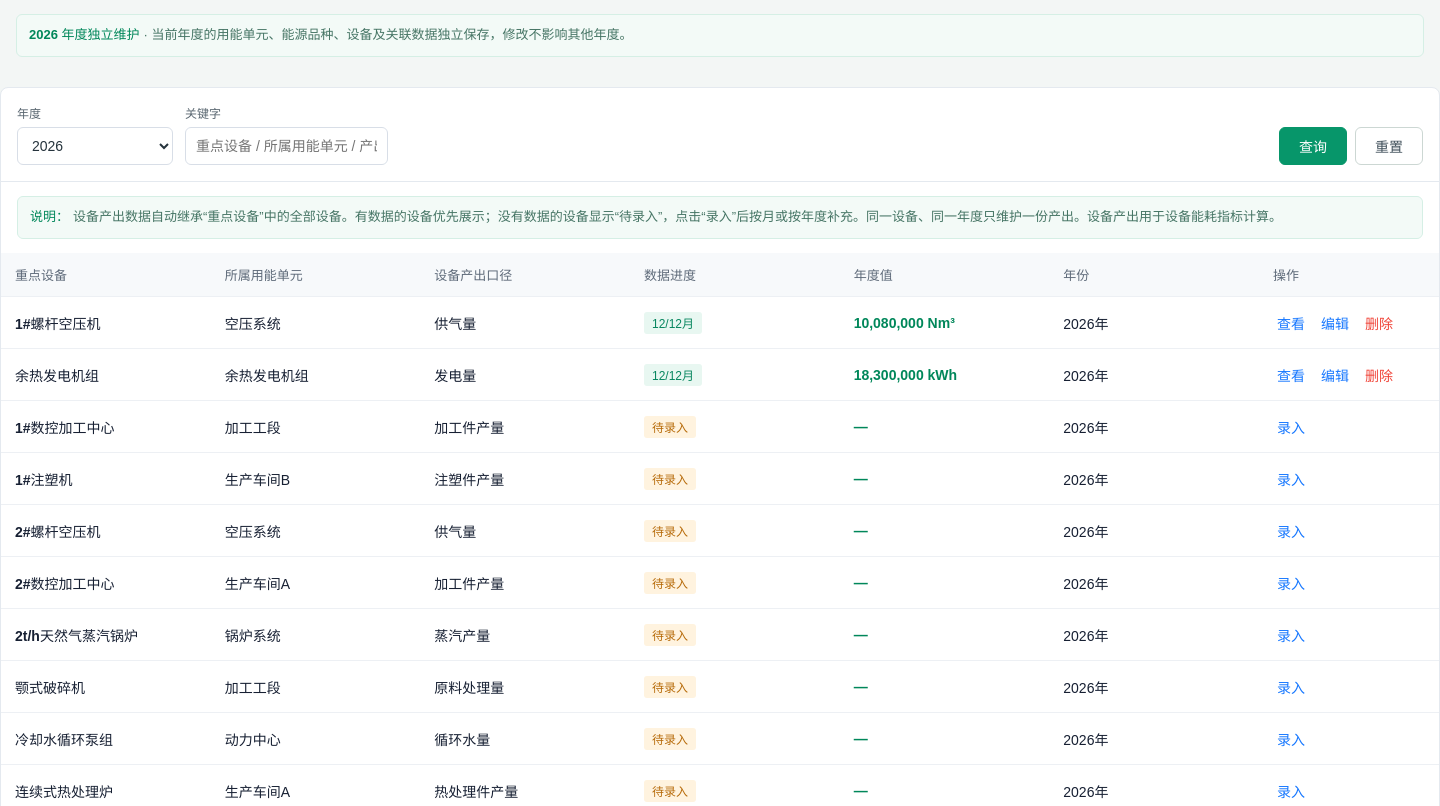
Test: annual ledgers and shared monthly details › distinguishes read-only viewing from one complete editing dialog on /data-management/device-output
Click the button "查看" in the row of "1#螺杆空压机": (1291, 323) [1273,311,1309,335]
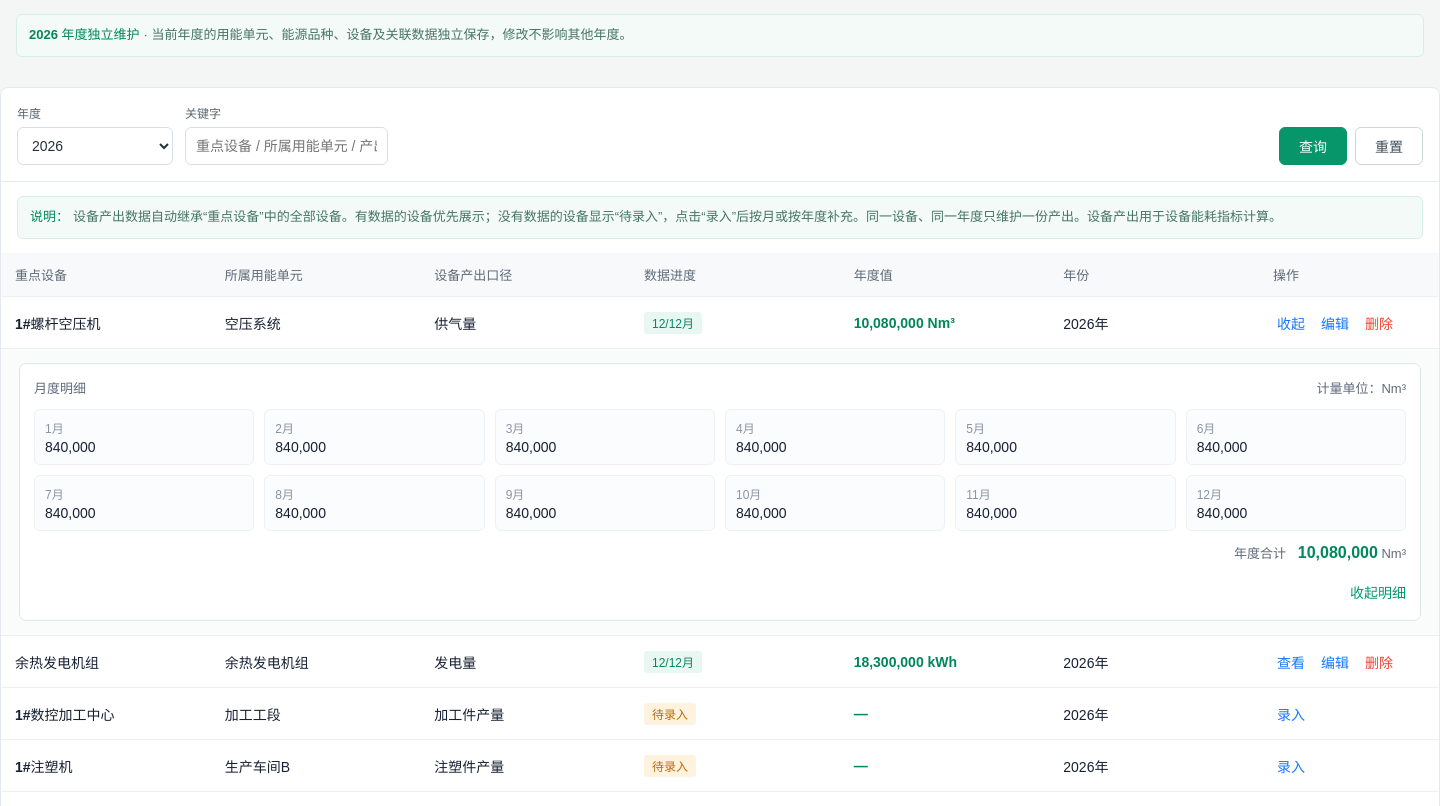
Click the button "编辑" in the row of "1#螺杆空压机": (1335, 323) [1317,311,1353,335]
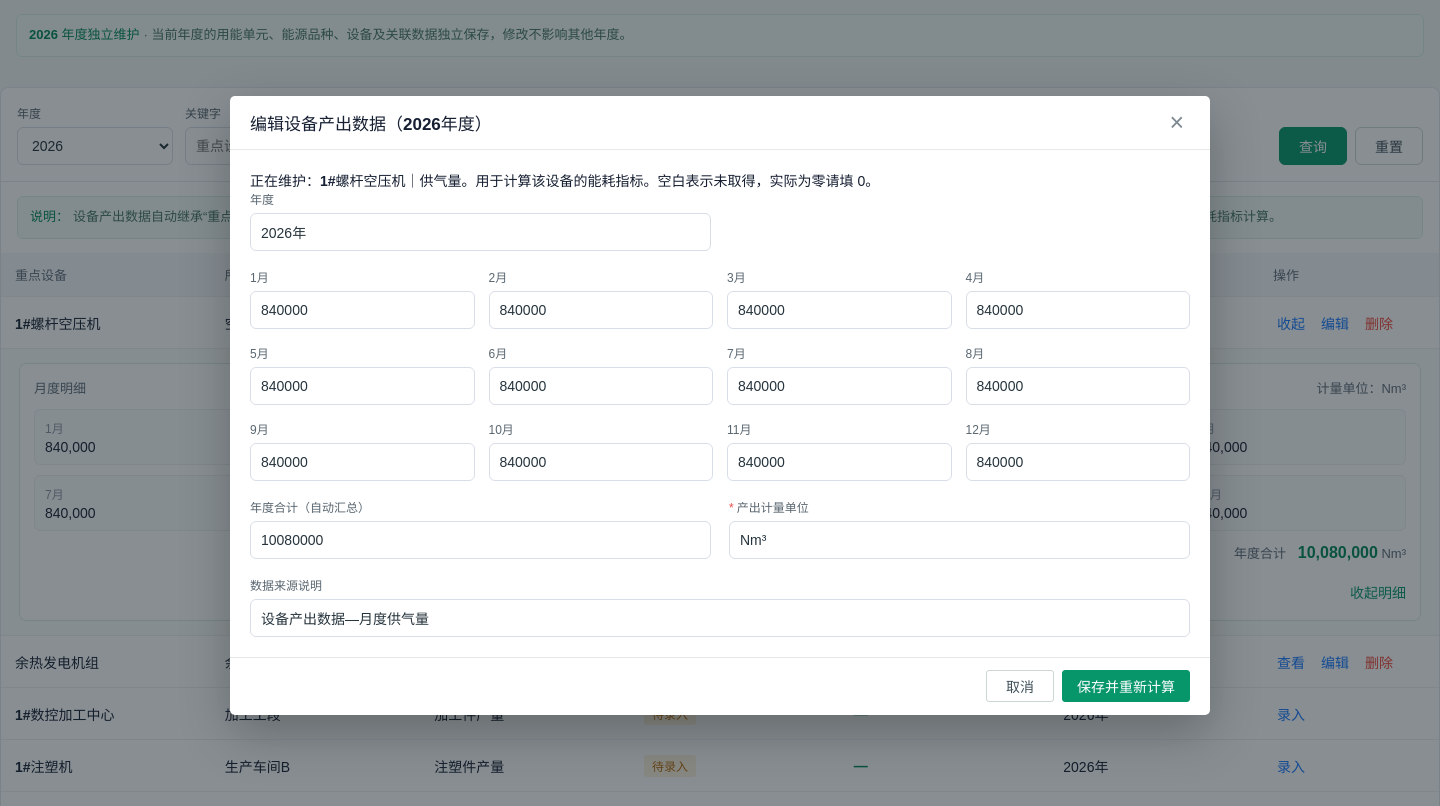
Result: the dialog is shown at [230,96,1210,714]
Click the button "取消": (1020, 686) [986,670,1054,702]
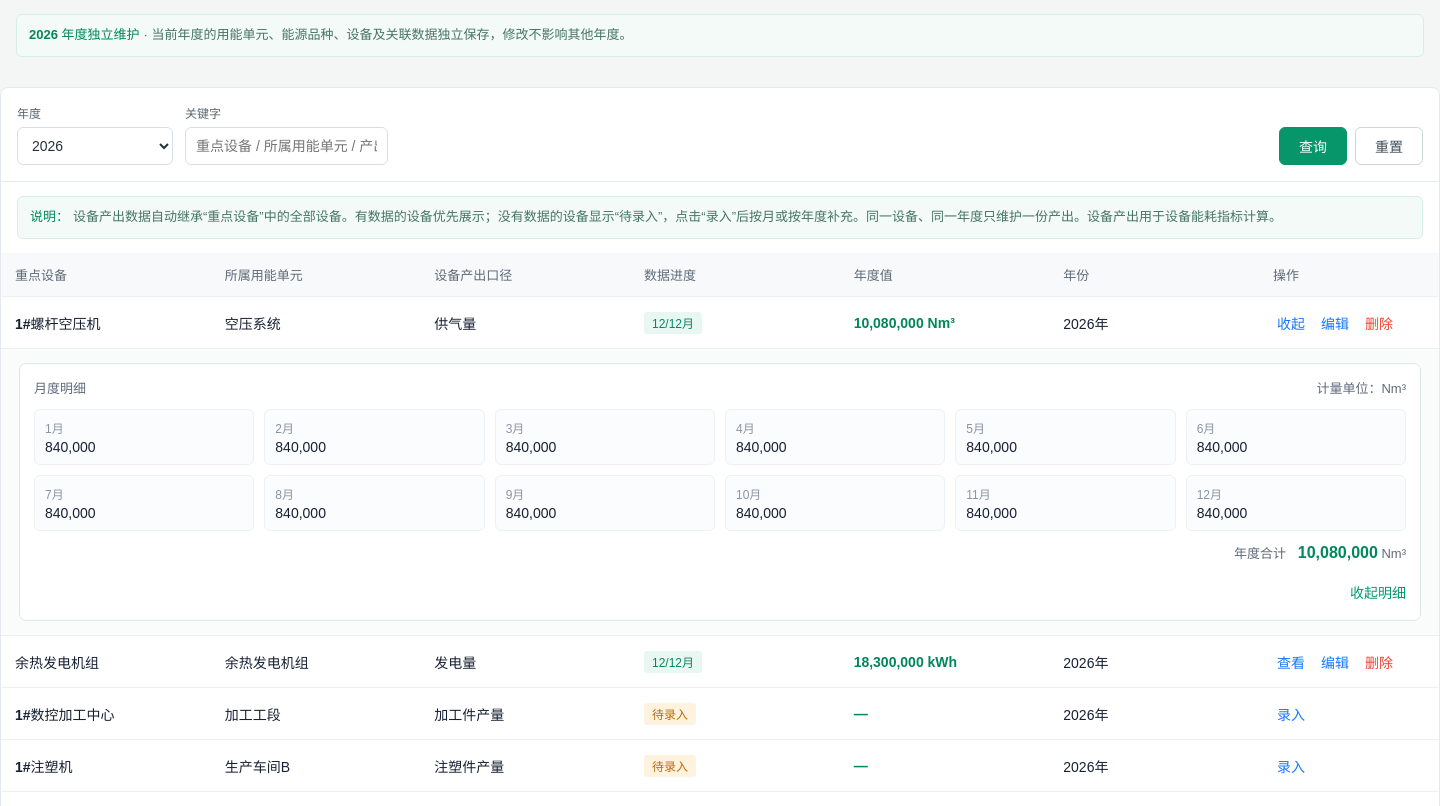
Result: the dialog is gone
